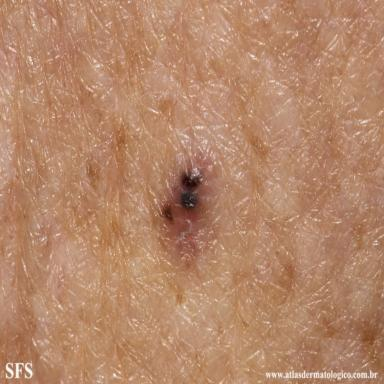basal-cell-carcinoma: (161, 152, 213, 254)
